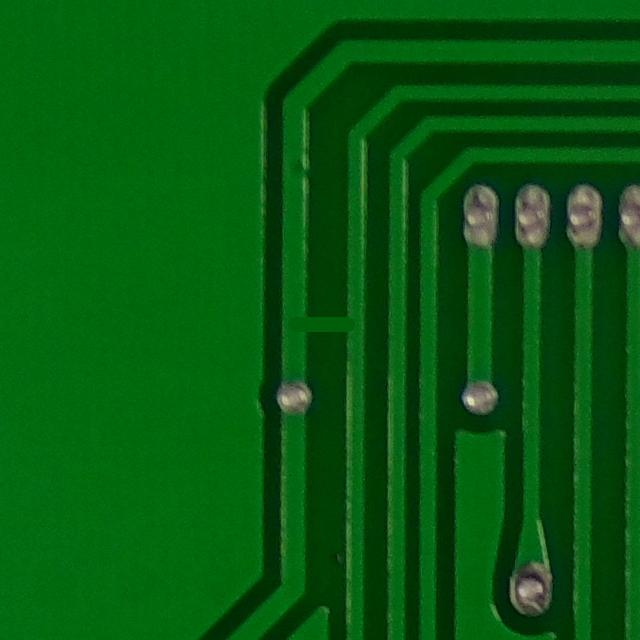short: (274, 289, 367, 351)
